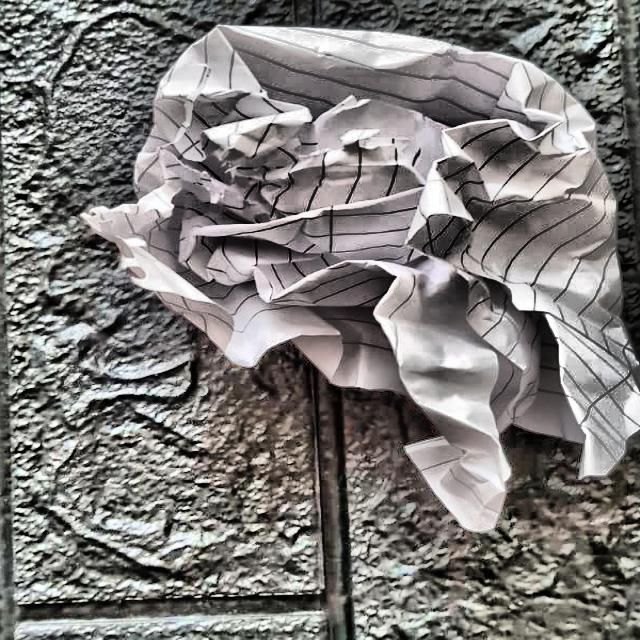paper: (37, 14, 640, 480)
